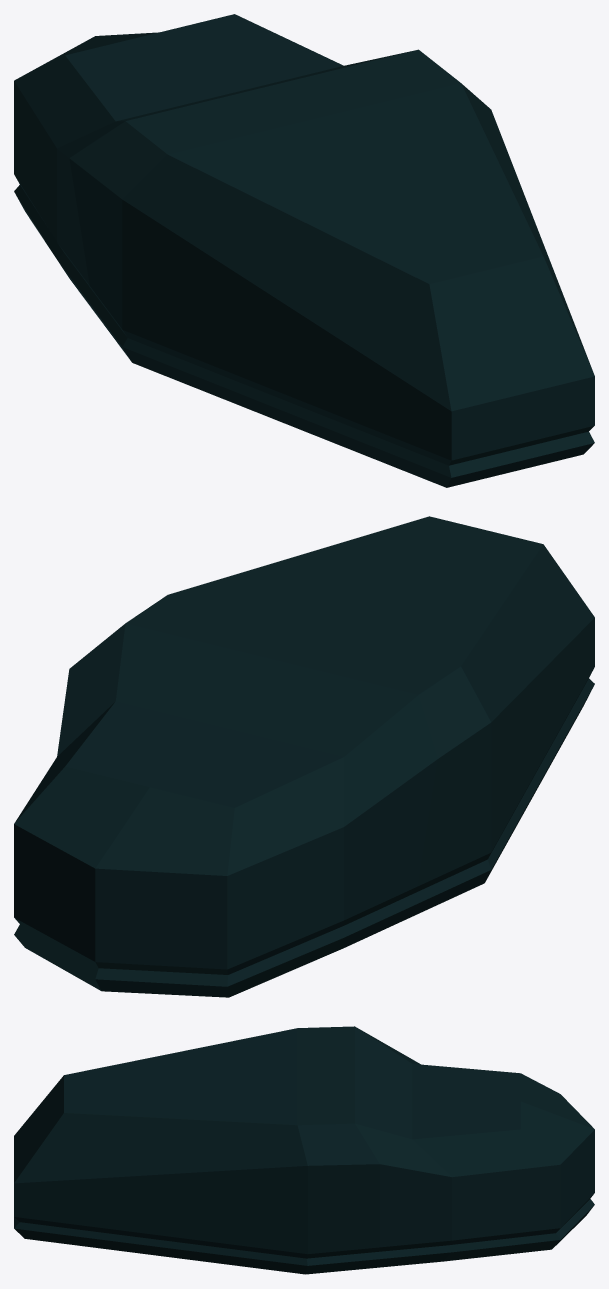
File: Ship.fbx
3 views of the same model, one above another, from view 1: azimuth 30°, elevation 25°; view 2: azimuth 150°, elevation 25°; view 3: azimuth 270°, elevation 25° (orthographic). The views are drawn at different scales.
Parts seen in each view (by area): view 1: Ship; view 2: Ship; view 3: Ship.
Part boxes in pixels (left/top/right/bottom): Ship: left=14, top=14, right=594, bottom=487; Ship: left=14, top=516, right=594, bottom=997; Ship: left=14, top=1026, right=594, bottom=1274.
Bounding box in the file's own units: 2508 × 1351 × 5040.
